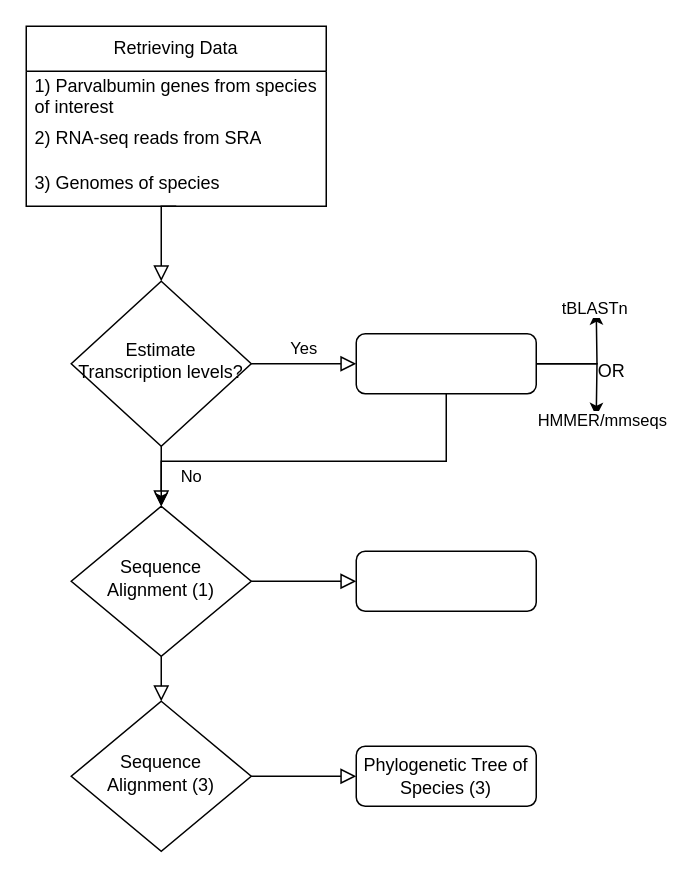
Image size: 693x878. Some labels were removed from this diagram. Each missing label, with the centre of its shape:
"Map genes (1) to RNA reads (2)" belongs at (445,363).
"Phylogenetic Tree of Parvalbumin (1)" belongs at (445,580).
